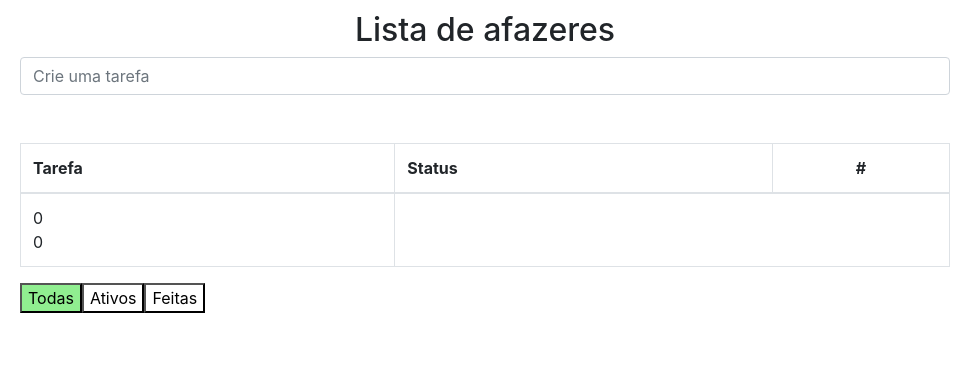
Teste de to-do-list UI › Should add a new task
The width and height of the screenshot is (971, 379).
Type "Nova Tarefa" into the field with test id "input-task" at (485, 76), box [20,57,950,95]
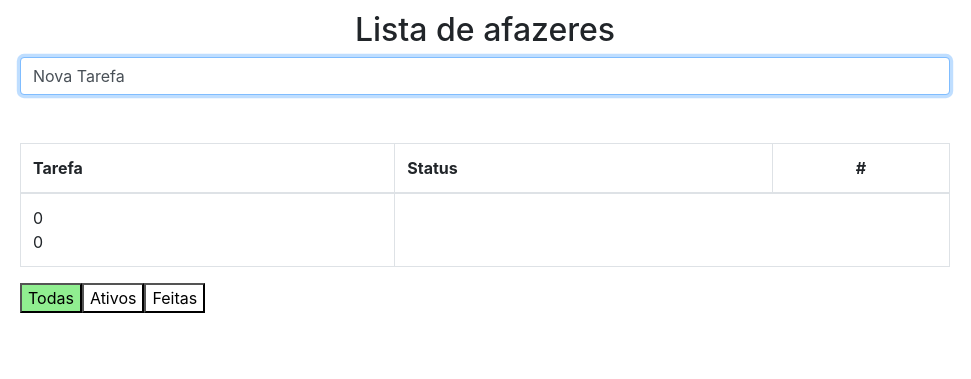
Press Enter in the field with test id "input-task", box [20,57,950,95]
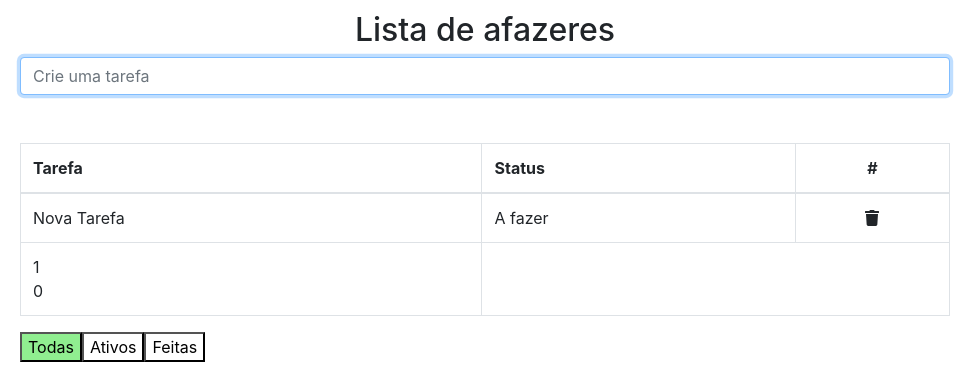
Check: the number of elements with test id "tasks-row" is 1, box [33,208,125,228]
Check: the text "Nova Tarefa" is shown once, box [33,208,125,228]
